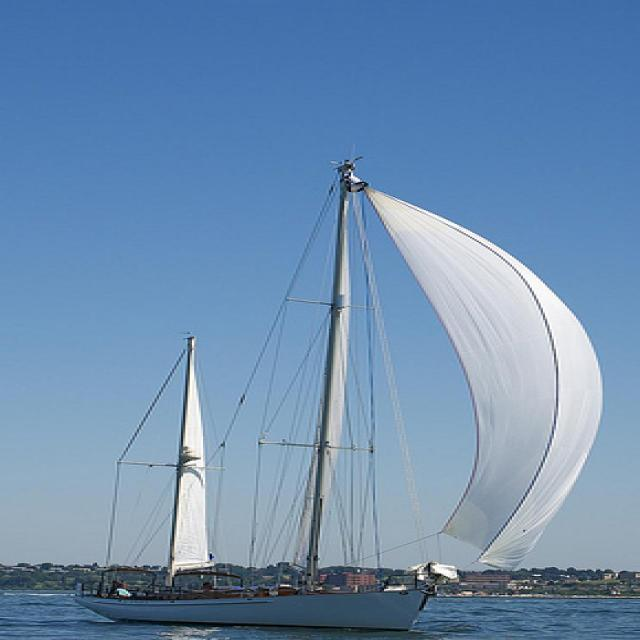Ship: (80, 174, 618, 638)
